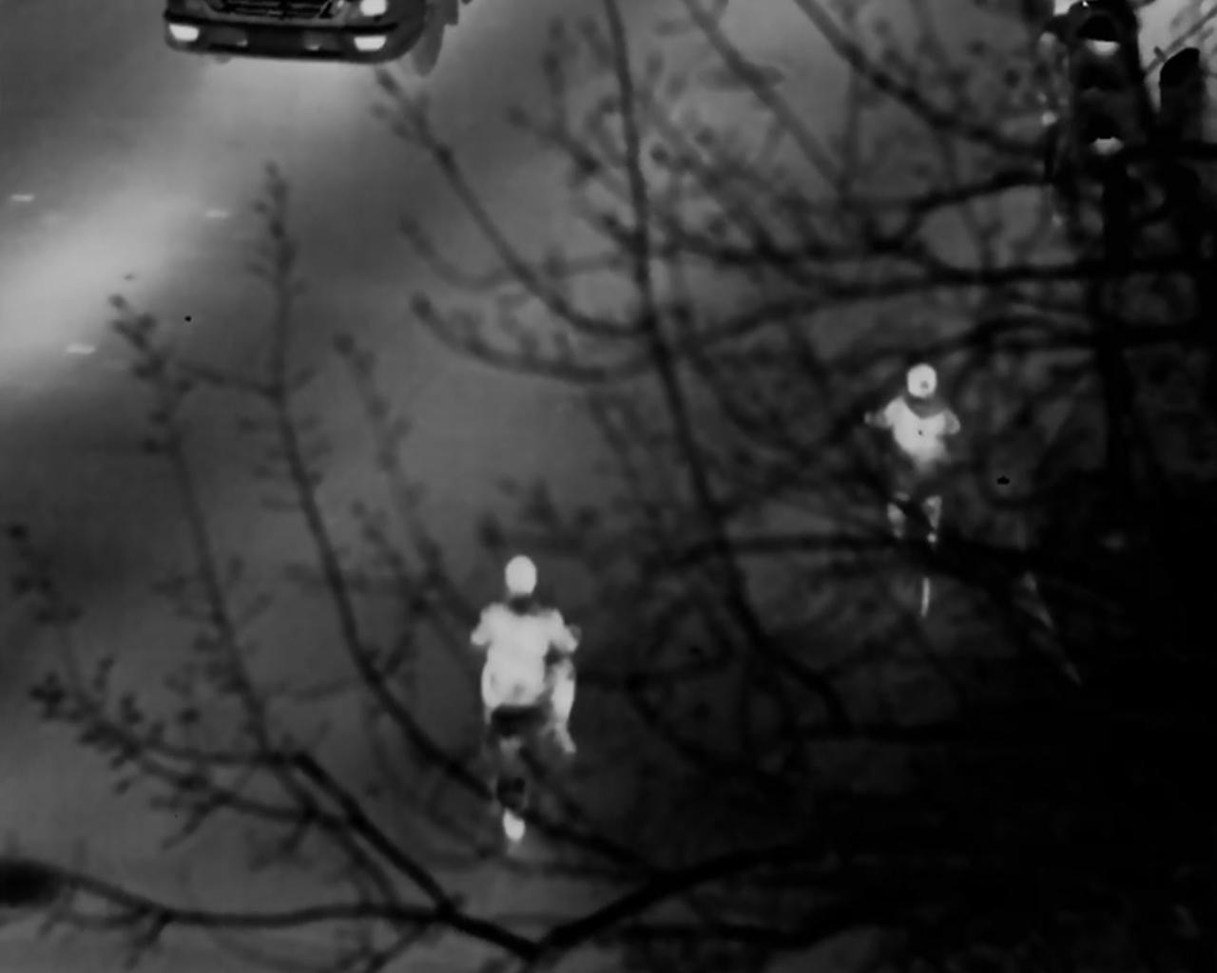person: (470, 553, 604, 771), (876, 360, 950, 574)
